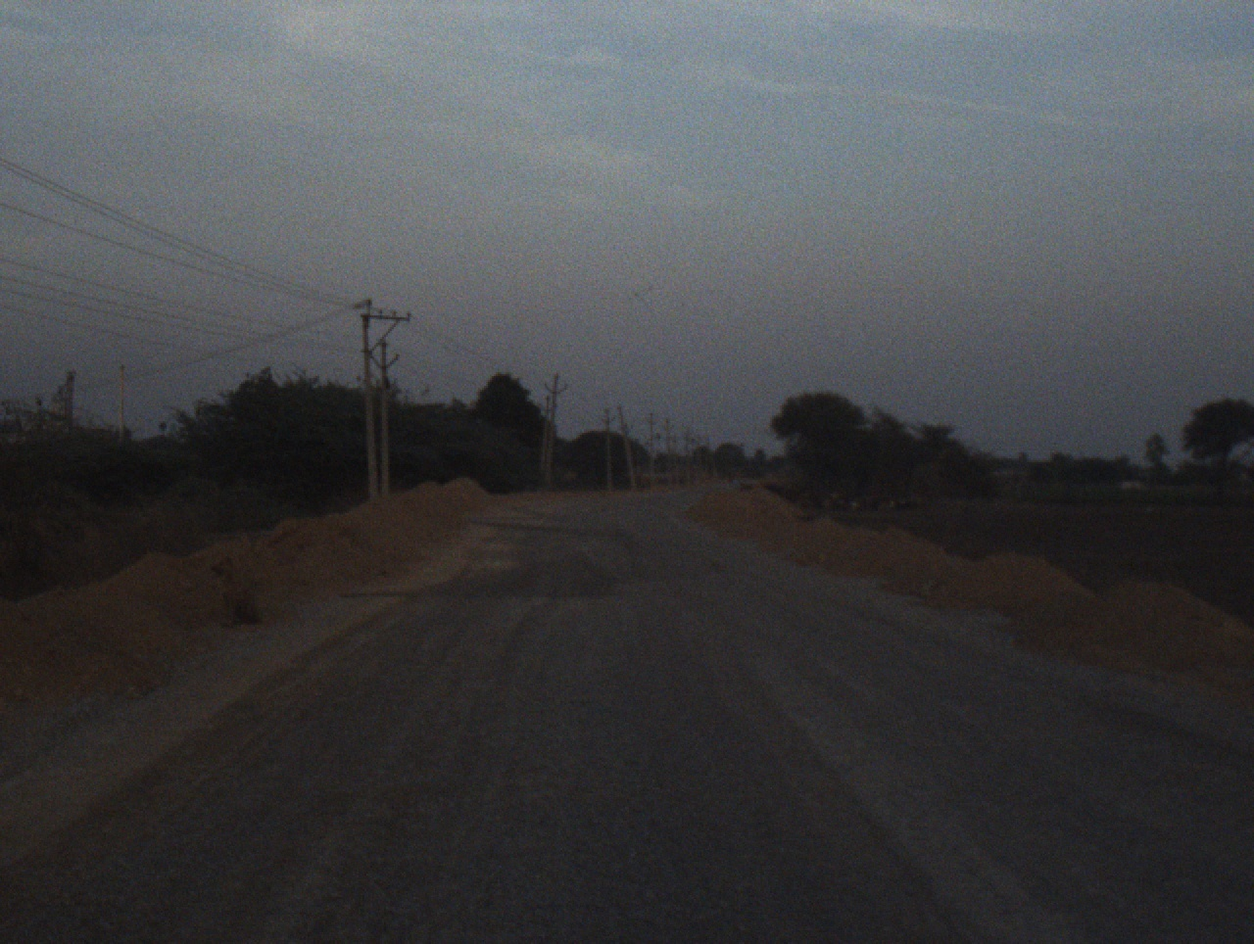animal: (855, 485, 889, 517), (801, 483, 847, 504), (894, 488, 932, 509)
